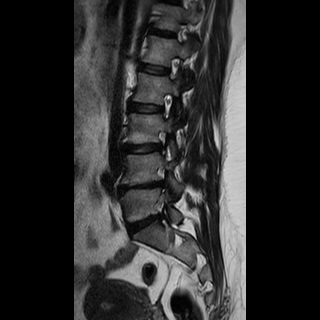RFS0: (156, 88, 177, 123), (163, 53, 184, 84)
RFS1: (150, 125, 172, 156)
